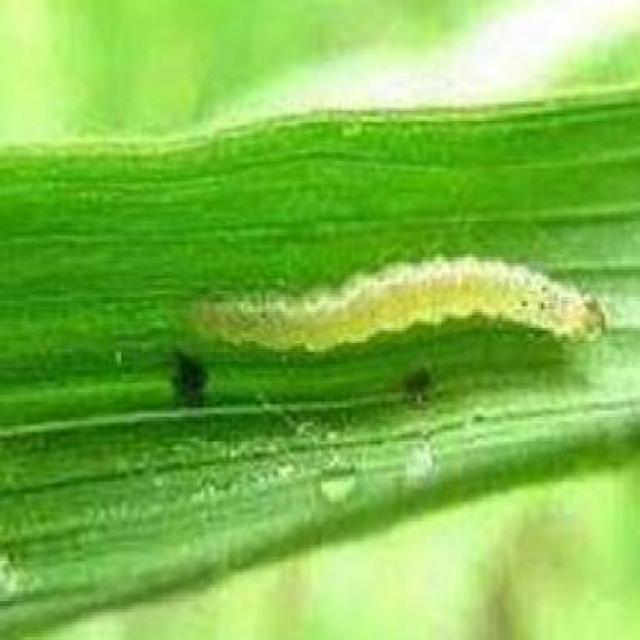leaf-folder: (192, 220, 613, 397)
